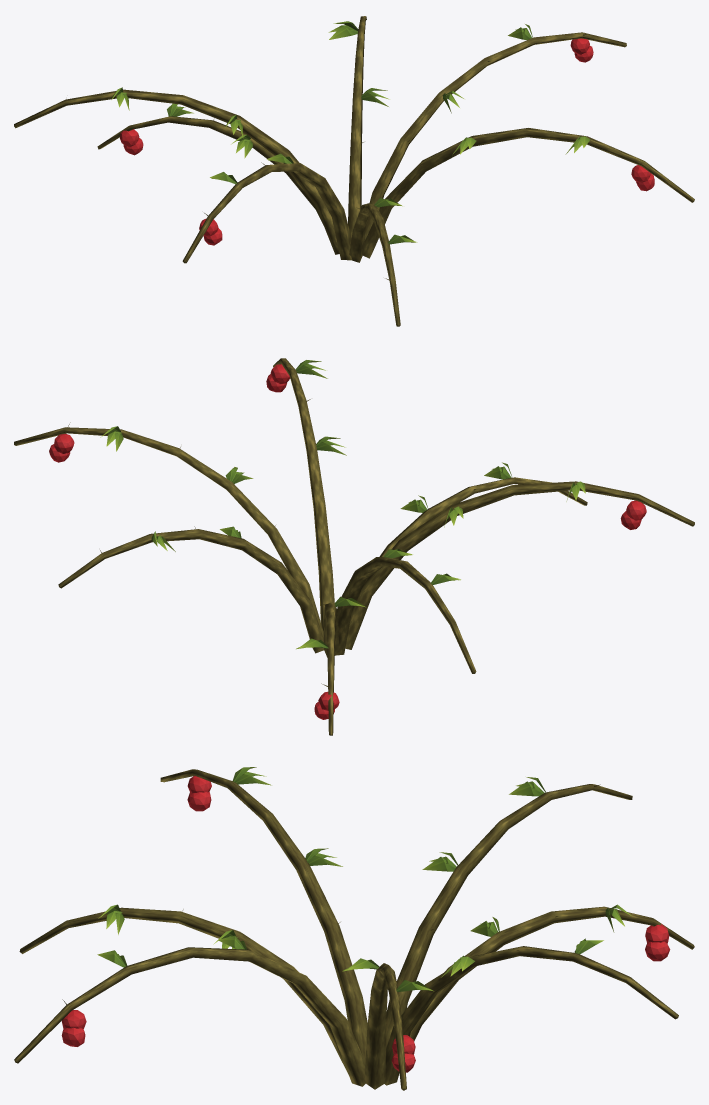
The model's file is ronces.glb.
The picture shows the model from 3 angles, top to bottom: view 1: azimuth 30°, elevation 25°; view 2: azimuth 150°, elevation 25°; view 3: azimuth 270°, elevation 25°; orthographic projection. The views are drawn at different scales.
Parts seen in each view (by area): view 1: ronces; view 2: ronces; view 3: ronces.
Part boxes in pixels (x1,y1,x2,y2): ronces: (14, 16, 694, 326); ronces: (14, 358, 694, 735); ronces: (14, 767, 694, 1090).
Bounding box in the file's own units: 2.54 × 0.7743 × 2.22.
Materials: 3 (3 with a texture image).
